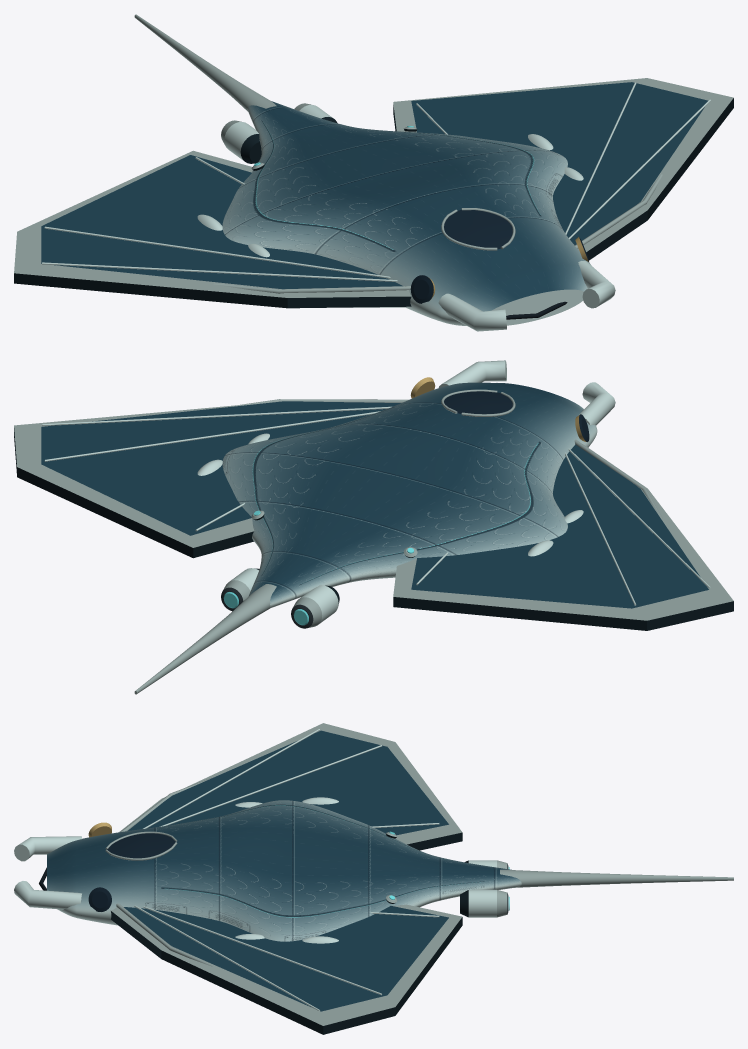
Rendered from ship.glb.
The picture shows the model from 3 angles, top to bottom: view 1: azimuth 30°, elevation 25°; view 2: azimuth 150°, elevation 25°; view 3: azimuth 270°, elevation 25°; orthographic projection. The views are drawn at different scales.
Visible parts, largest first — view 1: manta_ray_hull; view 2: manta_ray_hull; view 3: manta_ray_hull.
Boxes of the visible parts, x1,y1,x2,y2 form: manta_ray_hull: [14, 14, 733, 331]; manta_ray_hull: [14, 360, 733, 694]; manta_ray_hull: [14, 723, 733, 1034].
Bounding box in the file's own units: 255 × 28.67 × 256.
Materials: 1 (1 with a texture image).
